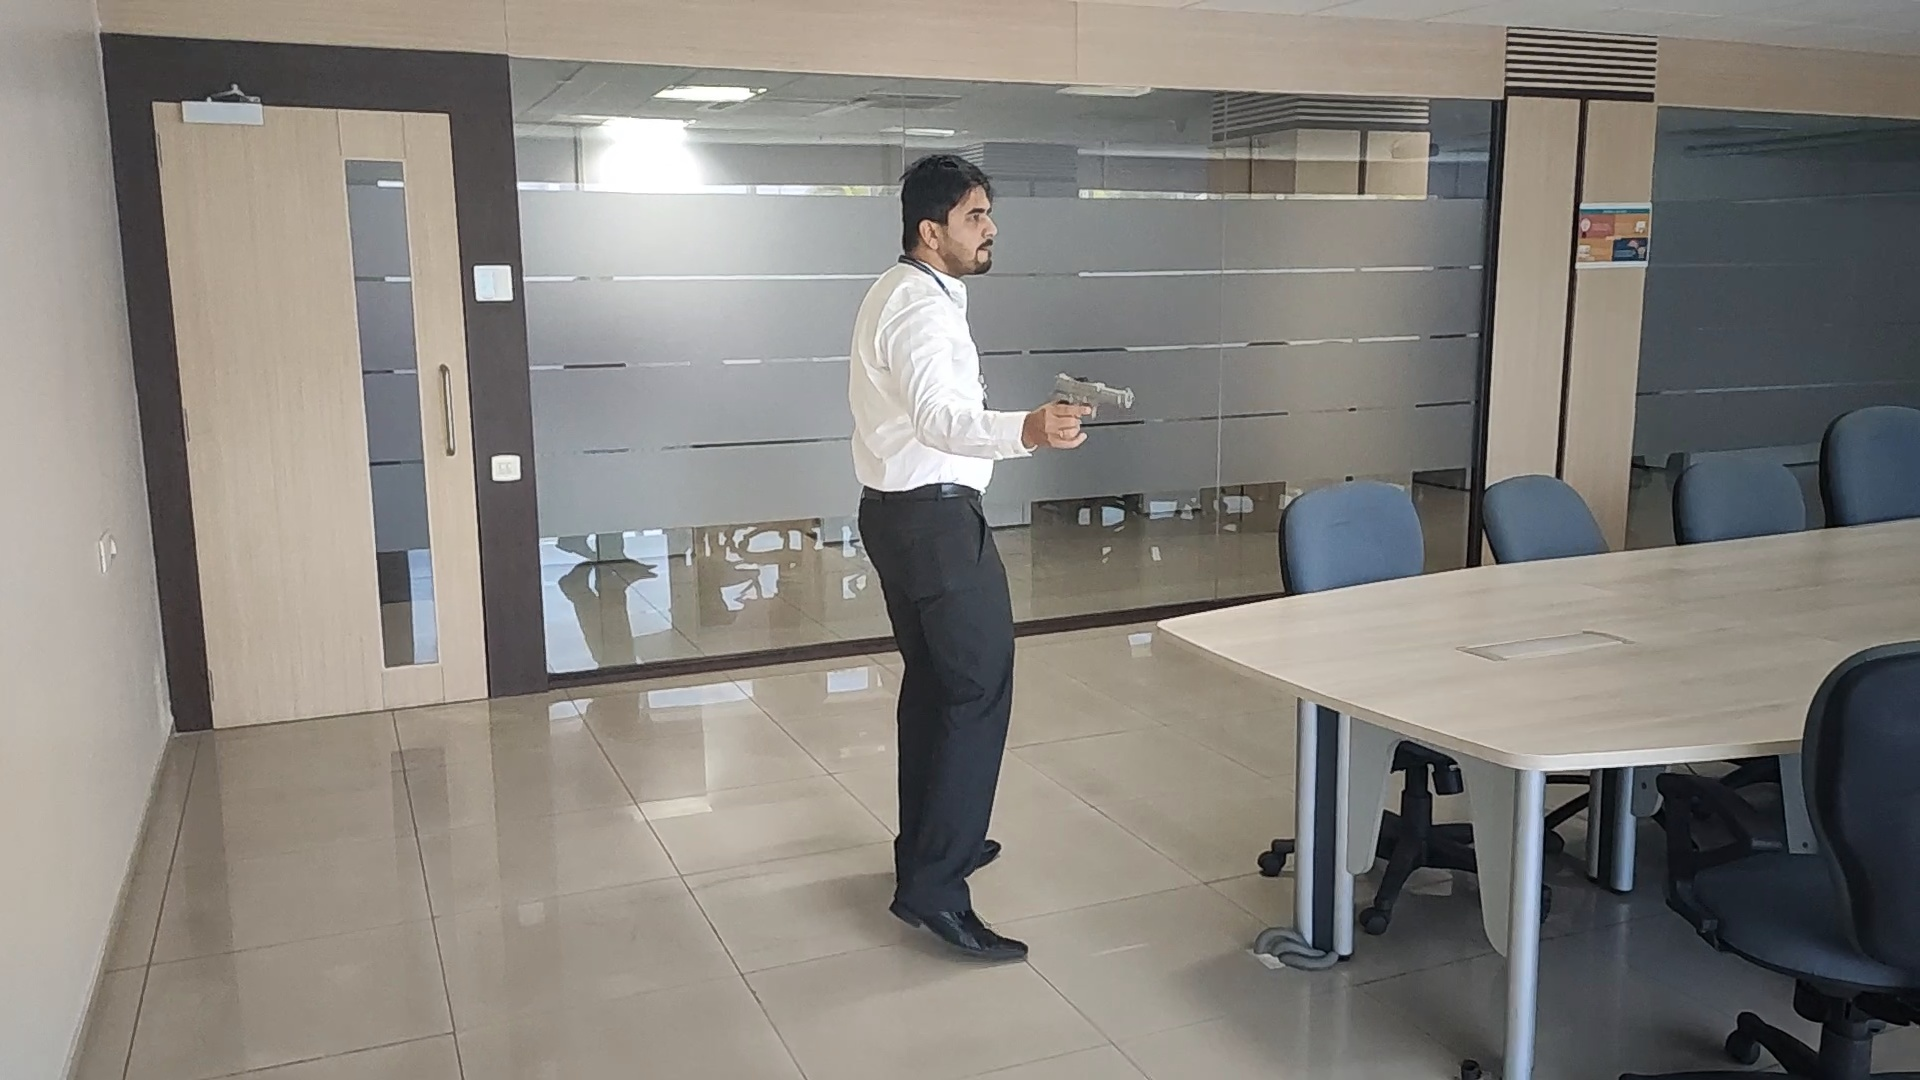gun: (1051, 373, 1135, 418)
